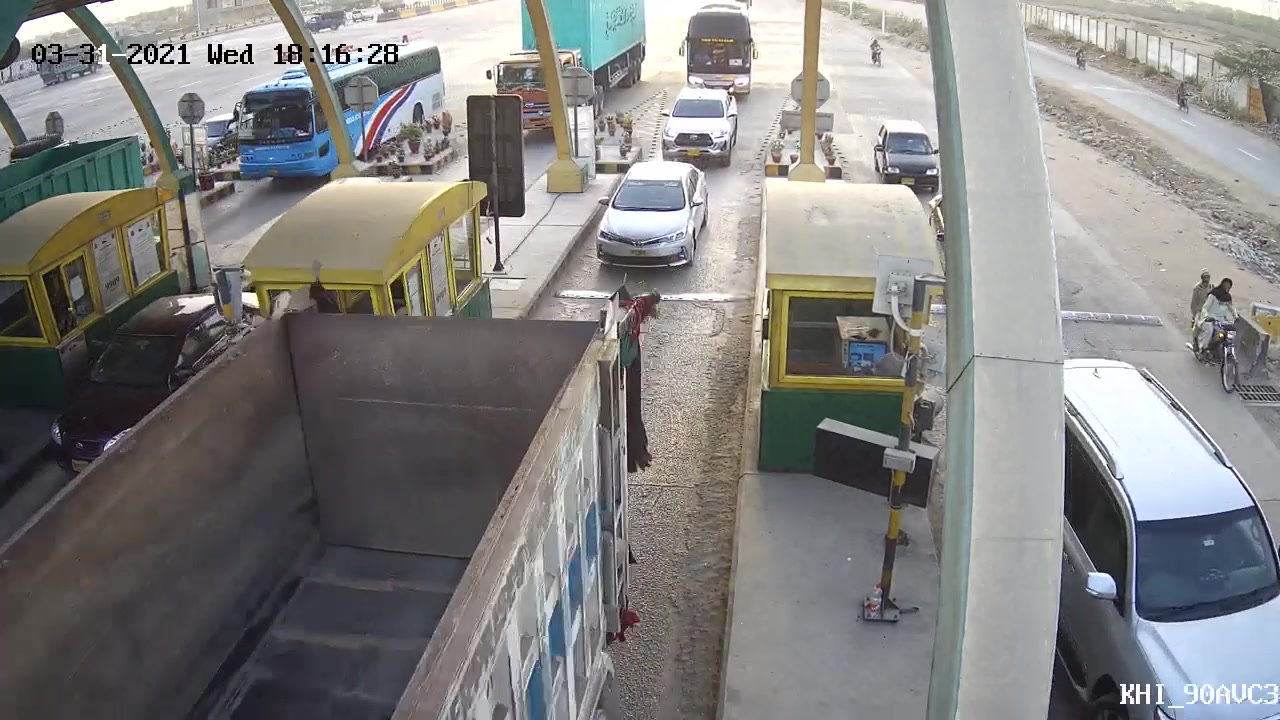F1: (586, 156, 711, 276)
